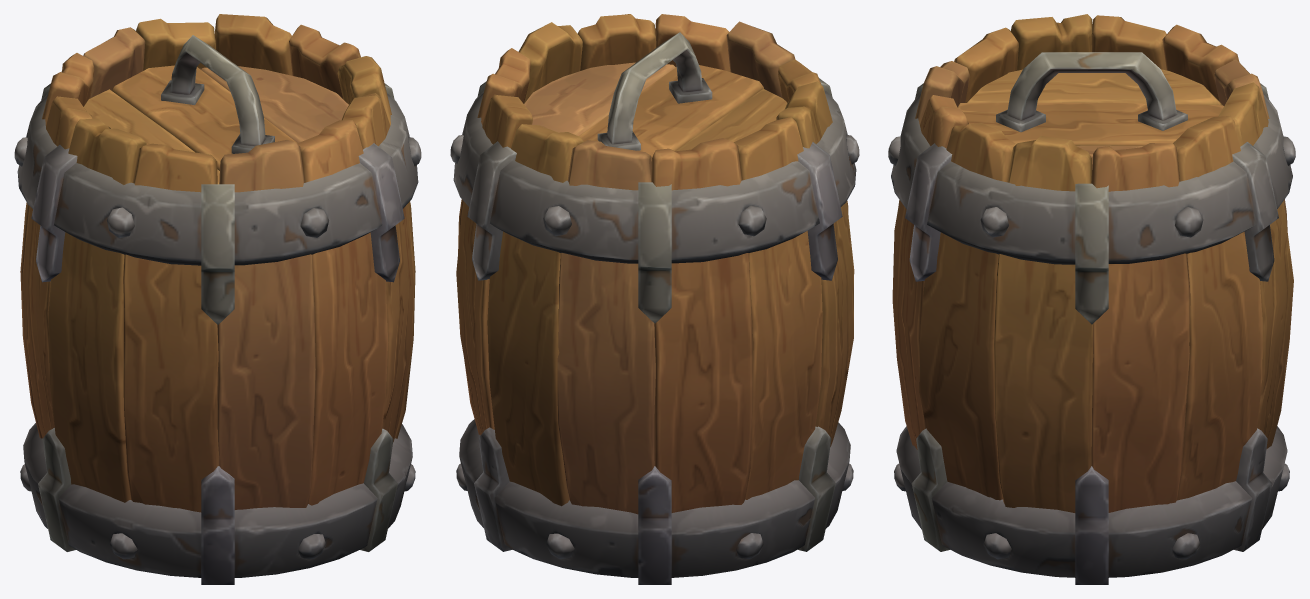
3 views of the same model, side by side, from view 1: azimuth 30°, elevation 25°; view 2: azimuth 150°, elevation 25°; view 3: azimuth 270°, elevation 25° (orthographic).
Parts seen in each view (by area): view 1: SM_Barrel_; view 2: SM_Barrel_; view 3: SM_Barrel_.
Boxes of the visible parts, x1,y1,x2,y2 form: SM_Barrel_: (14, 14, 421, 584); SM_Barrel_: (450, 14, 859, 584); SM_Barrel_: (888, 14, 1295, 584).
Size of the model in its own units: 0.7494 by 0.911 by 0.7399.
1 material, 1 textured.
